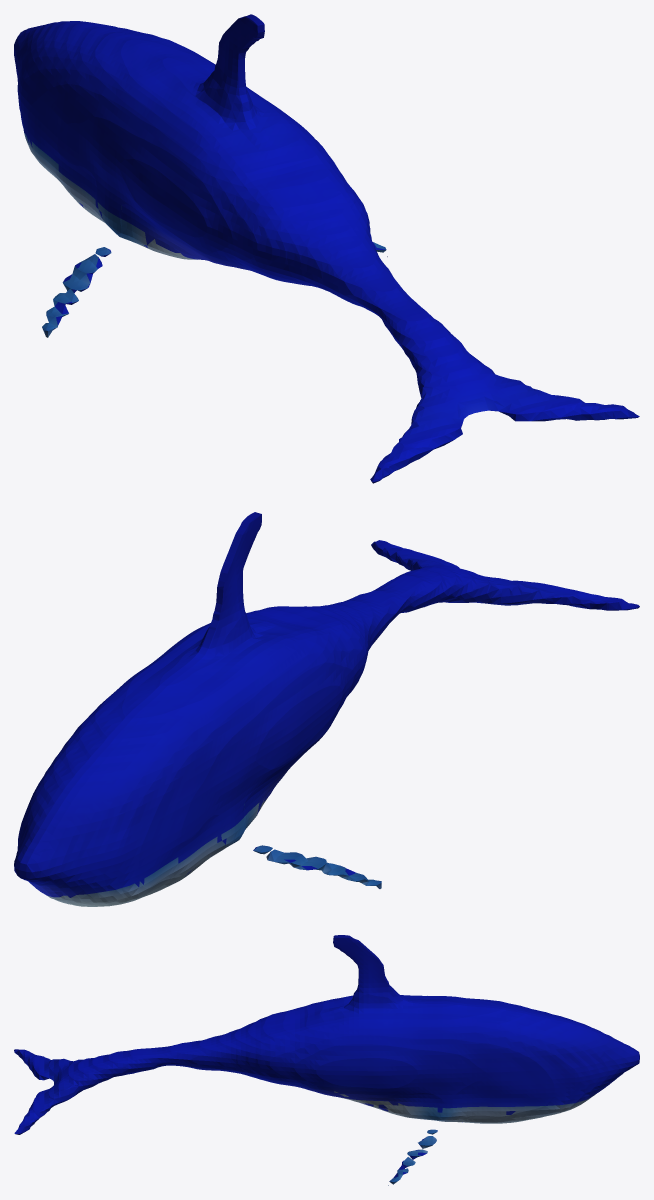
The model's file is dolphin.glb.
3 views of the same model, one above another, from view 1: azimuth 30°, elevation 25°; view 2: azimuth 150°, elevation 25°; view 3: azimuth 270°, elevation 25° (orthographic). The views are drawn at different scales.
Parts seen in each view (by area): view 1: tmp37gbq0it.ply; view 2: tmp37gbq0it.ply; view 3: tmp37gbq0it.ply.
Boxes of the visible parts, x1=… form: tmp37gbq0it.ply: x1=14, y1=14, x2=639, y2=483; tmp37gbq0it.ply: x1=14, y1=512, x2=639, y2=906; tmp37gbq0it.ply: x1=14, y1=935, x2=639, y2=1185.
Size of the model in its own units: 0.7989 by 0.6865 by 1.97.
